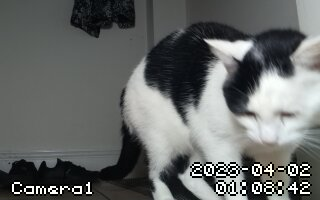bad: (110, 24, 320, 193)
